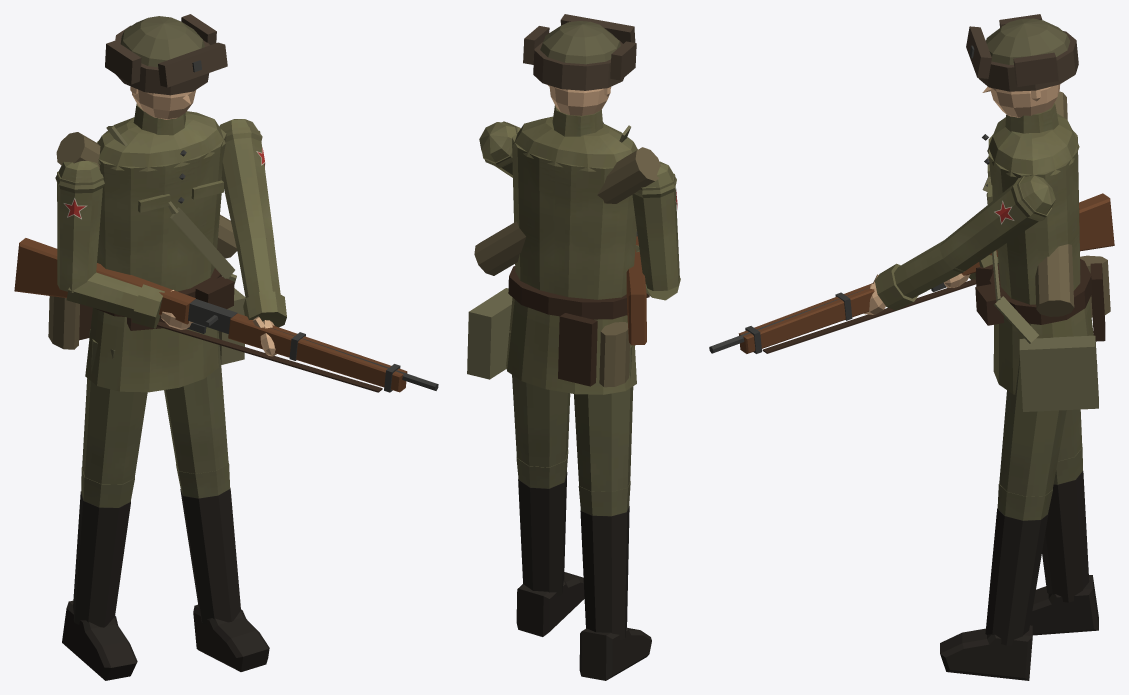
The model's file is infantry-1.glb.
3 views of the same model, side by side, from view 1: azimuth 30°, elevation 25°; view 2: azimuth 150°, elevation 25°; view 3: azimuth 270°, elevation 25° (orthographic). The views are drawn at different scales.
Parts seen in each view (by area): view 1: torse, basques, botte_left, botte_right, pantalon_right, pantalon_left, epaules, manche_left, manche_right, fusil_fut, fusil_crosse, chaussure_right (+21 smaller); view 2: torse, pantalon_right, botte_right, basques, botte_left, pantalon_left, epaules, manche_right, rouleau_capote, musette, chaussure_right, chaussure_left (+14 smaller); view 3: torse, botte_left, musette, pantalon_left, botte_right, manche_left, chaussure_left, epaules, fusil_fut, basques, chaussure_right, chapka_calotte (+19 smaller).
Part boxes in pixels (x1,y1,x2,y2): torse: [97, 129, 226, 291]; basques: [85, 308, 219, 392]; botte_left: [180, 488, 240, 624]; botte_right: [73, 491, 130, 627]; pantalon_right: [82, 329, 147, 484]; pantalon_left: [164, 331, 228, 473]; epaules: [97, 111, 225, 171]; manche_left: [221, 127, 274, 249]; manche_right: [57, 171, 103, 292]; fusil_fut: [228, 313, 407, 392]; fusil_crosse: [14, 238, 195, 324]; chaussure_right: [62, 600, 137, 680]; torse: [512, 134, 636, 299]; pantalon_right: [574, 345, 633, 491]; botte_right: [580, 506, 629, 639]; basques: [506, 298, 636, 394]; botte_left: [518, 472, 567, 596]; pantalon_left: [509, 331, 570, 467]; epaules: [512, 116, 637, 171]; manche_right: [632, 174, 679, 290]; rouleau_capote: [474, 147, 660, 275]; musette: [467, 288, 512, 379]; chaussure_right: [579, 627, 651, 680]; chaussure_left: [516, 572, 584, 636]; torse: [988, 129, 1080, 304]; botte_left: [985, 508, 1048, 645]; musette: [1019, 335, 1098, 411]; pantalon_left: [999, 358, 1066, 496]; botte_right: [1042, 471, 1089, 602]; manche_left: [939, 176, 1051, 272]; chaussure_left: [940, 625, 1032, 680]; epaules: [987, 113, 1079, 177]; fusil_fut: [738, 283, 874, 353]; basques: [993, 300, 1097, 394]; chaussure_right: [1030, 575, 1098, 635]; chapka_calotte: [986, 18, 1070, 64].
Bounding box in the file's own units: 0.6725 × 1.83 × 1.07.
13 materials, 3 textured.
